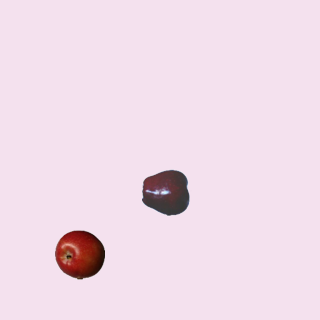Apple Braeburn: (54, 229, 104, 279)
Apple Red Delicious: (141, 167, 191, 217)
